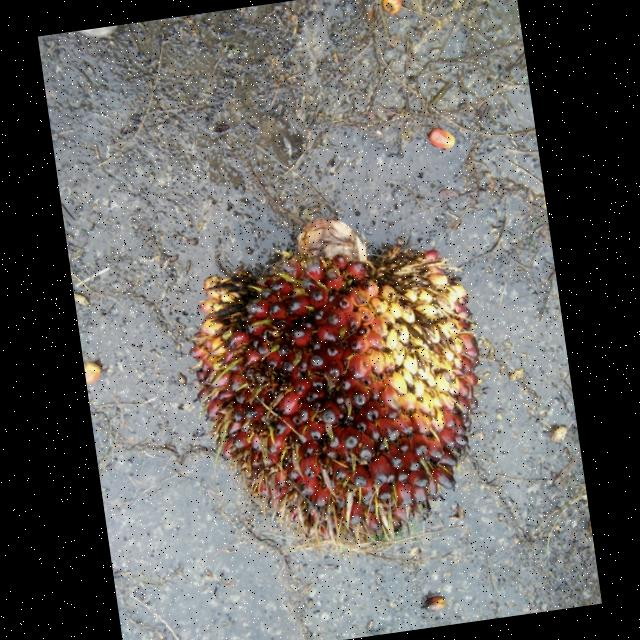Ripe: (191, 220, 482, 549)
